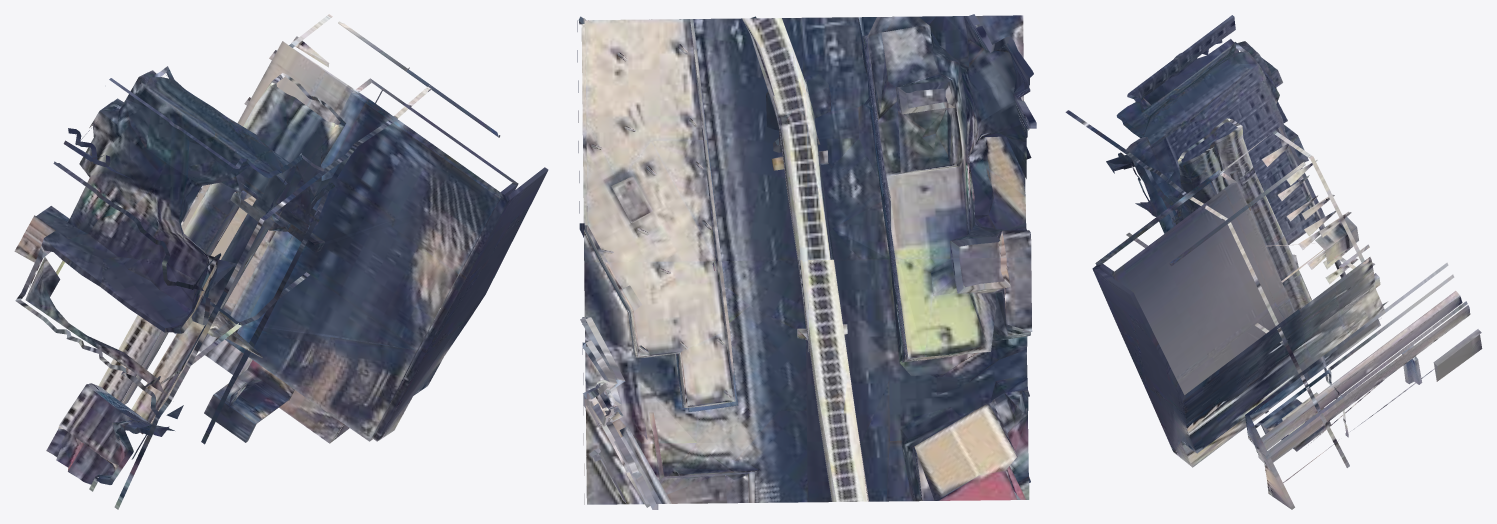
3 renders of one model, left to right at view 1: azimuth 30°, elevation 25°; view 2: azimuth 150°, elevation 25°; view 3: azimuth 270°, elevation 25°, orthographic. The views are drawn at different scales.
Size of the model in its own units: 101 by 94.2 by 94.28.
2 materials, 2 textured.
